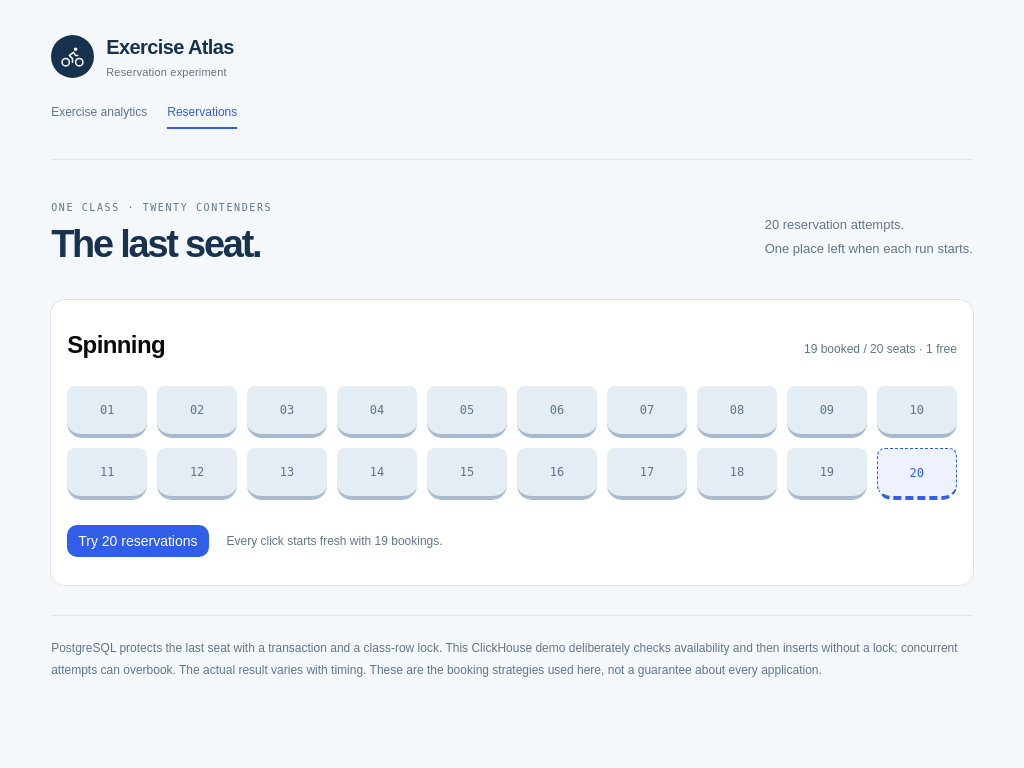
Test: loads the template, disables while running and replaces results with a fresh POST
The image size is (1024, 768).
Expected: the text "19 booked / 20 seats · 1 free" is shown, [804,341,957,358]
Click the button "Try 20 reservations" at (138, 541), box [67,525,208,557]
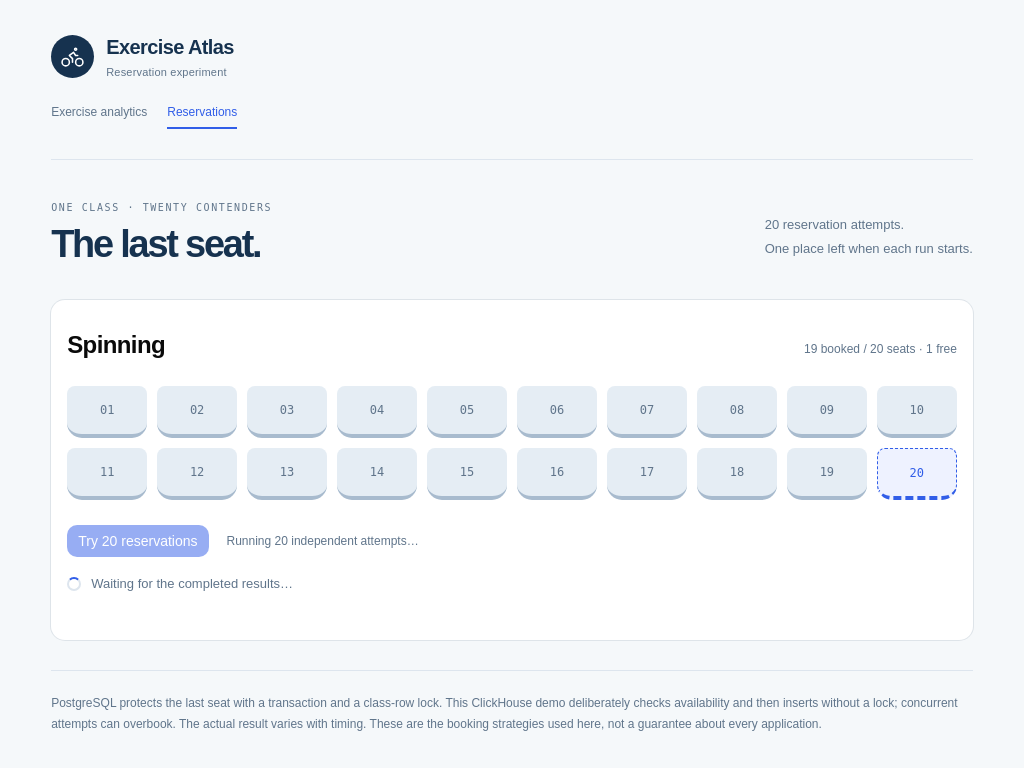
Now the button "Try 20 reservations" is disabled
Click the button "Try 20 reservations" at (138, 541), box [67,525,208,557]
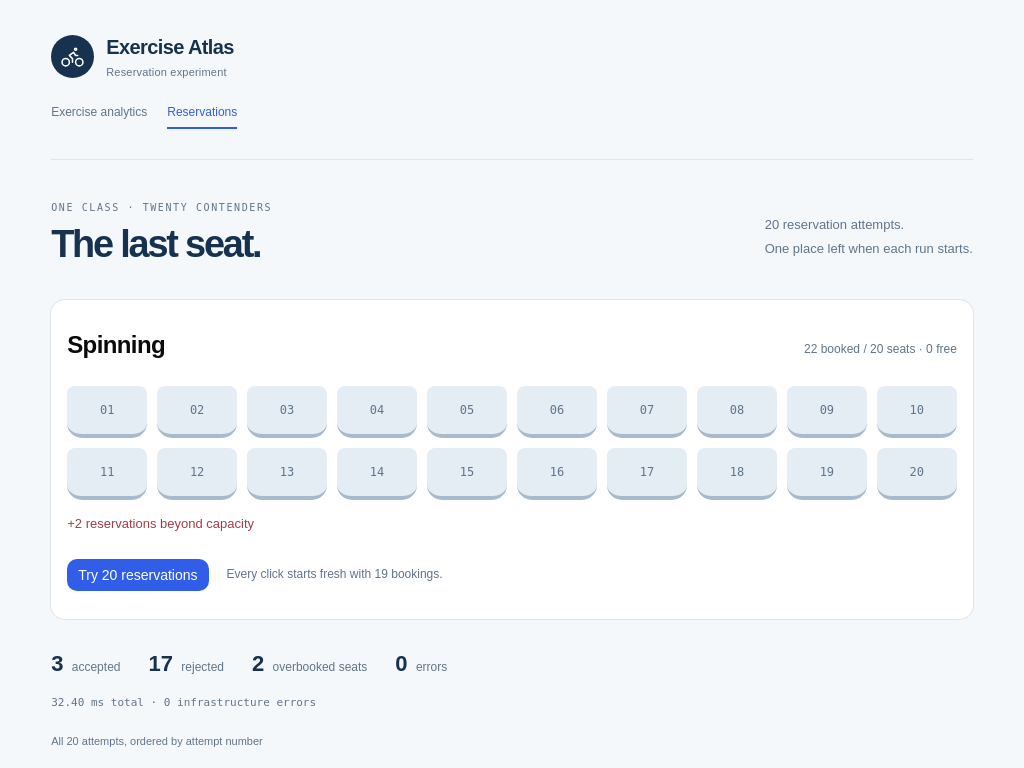
Now the text "+2 reservations beyond capacity" is shown, box [67,516,254,531]
Now the text "22 booked / 20 seats · 0 free" is shown, box [804,341,957,358]
Click the button "Try 20 reservations" at (138, 575), box [67,559,208,591]
(page scrolled)
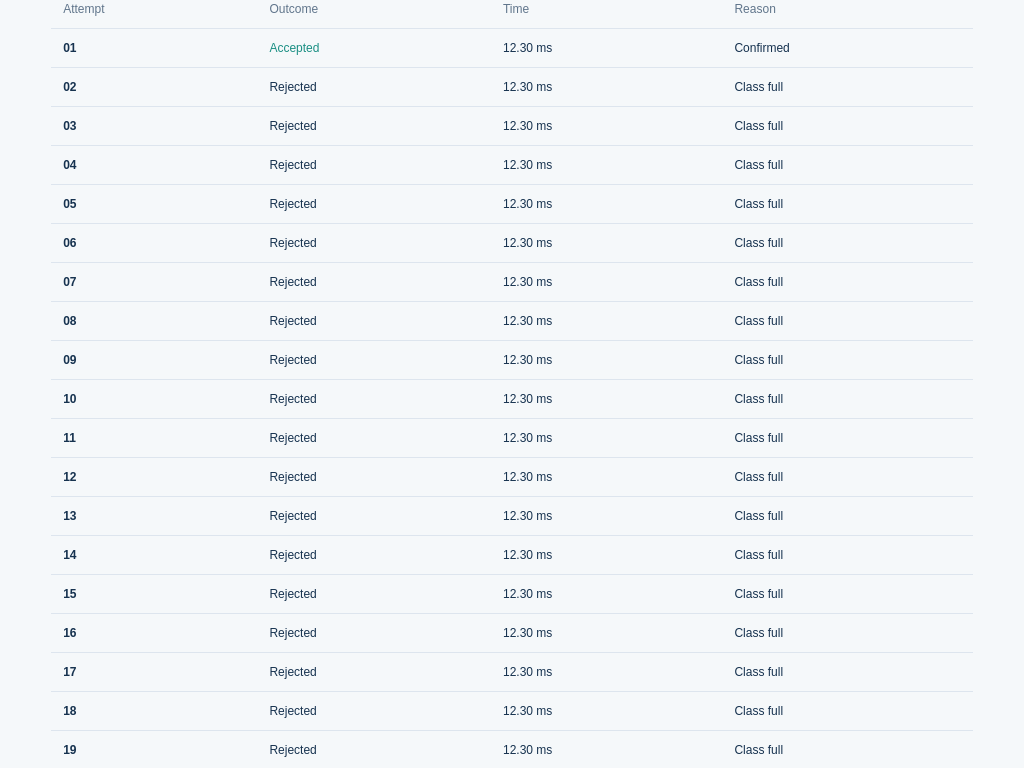
Now the text "+2 reservations beyond capacity" is gone
